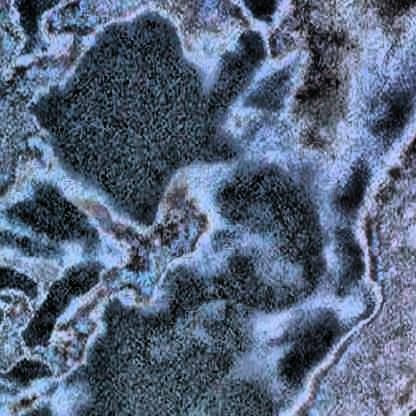sheen: (0, 0, 271, 416), (241, 0, 416, 416)
